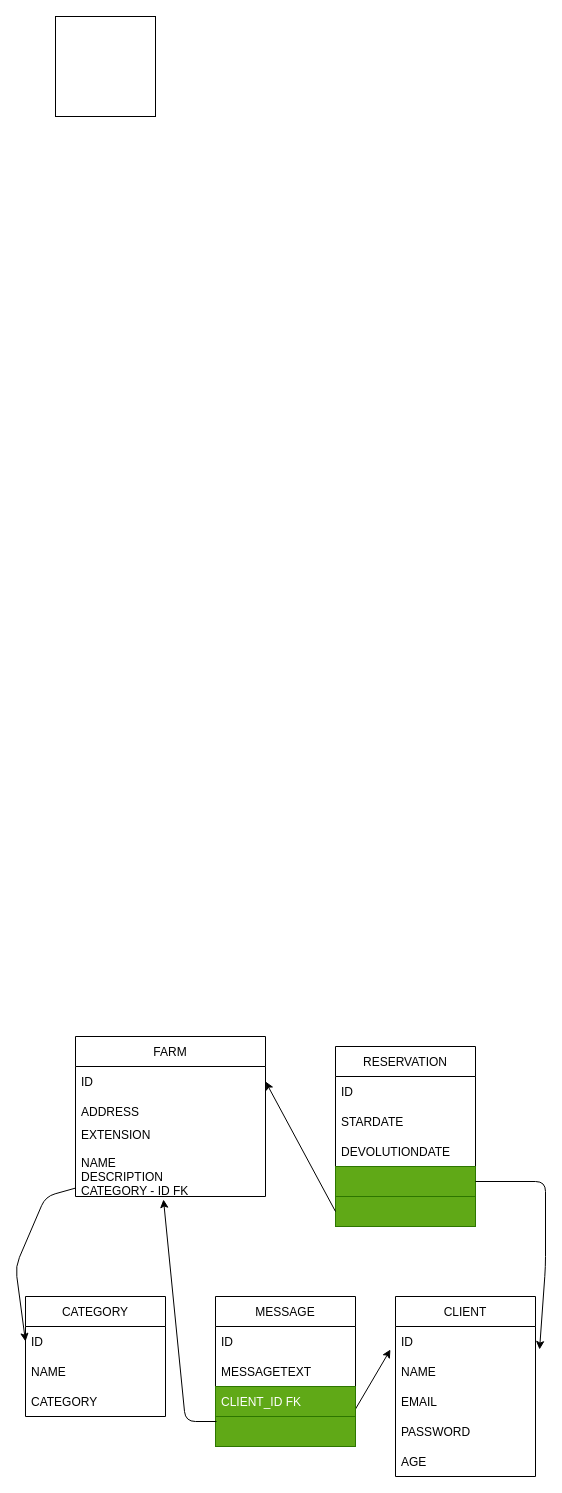
Image size: 562x1493. Some labels were removed from this diagram. The shapes that lost their labels are listed below. From the top down, each one's centre as x and y in pixels, then its label:
At point 405,1181: "CLIENT_ID".
At point 405,1211: "FARM_ID".
At point 285,1431: "FARM_ID FK".
